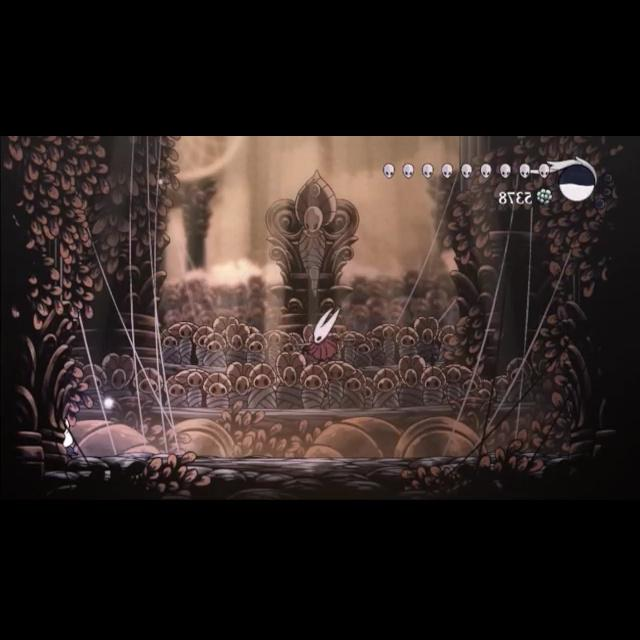Enemy: (296, 300, 348, 372)
Player: (51, 416, 87, 460)
